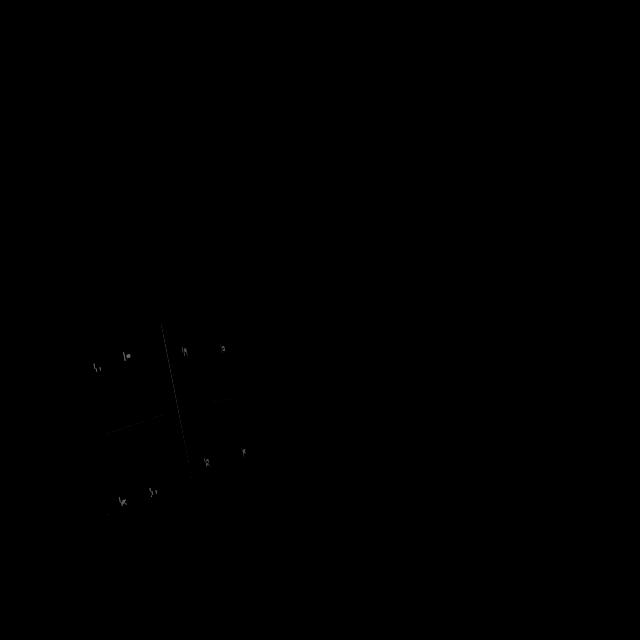satellite: (63, 319, 247, 528)
